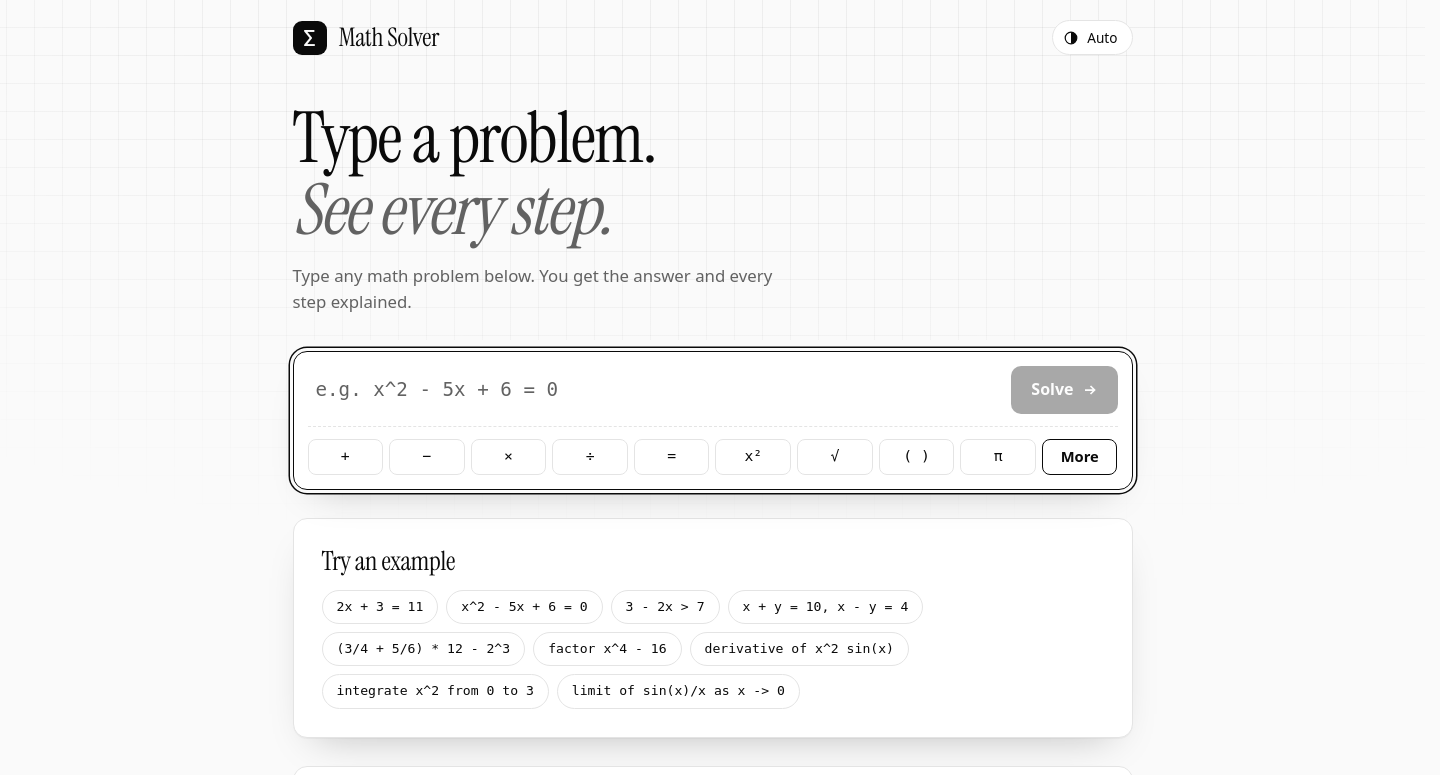
Scenario: App › shows a friendly error for invalid input
The width and height of the screenshot is (1440, 775).
Type "2x + (3" into the field named "Math problem" at (655, 390), box x1=308 y1=366 x2=1003 y2=414
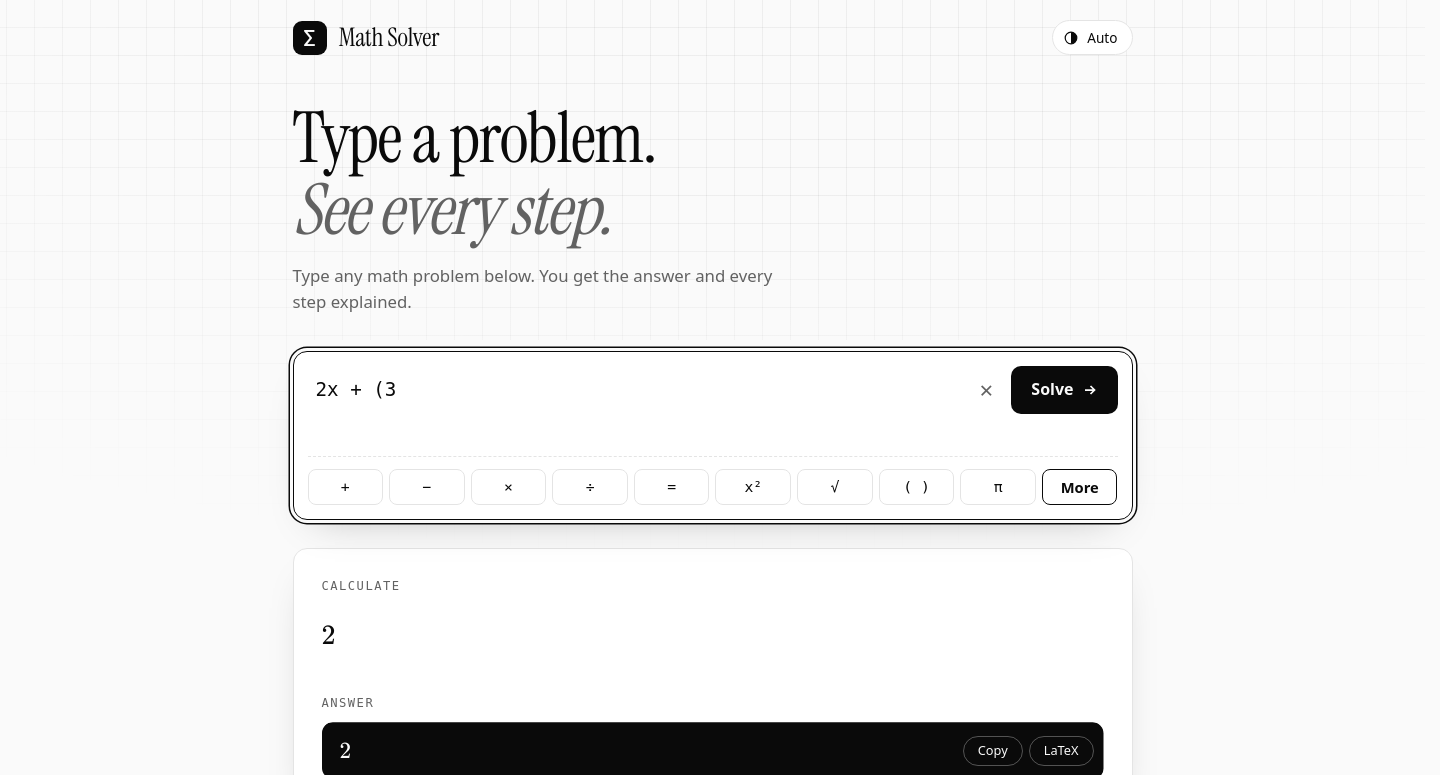
Submit the form named "Math problem", box x1=292 y1=351 x2=1132 y2=520
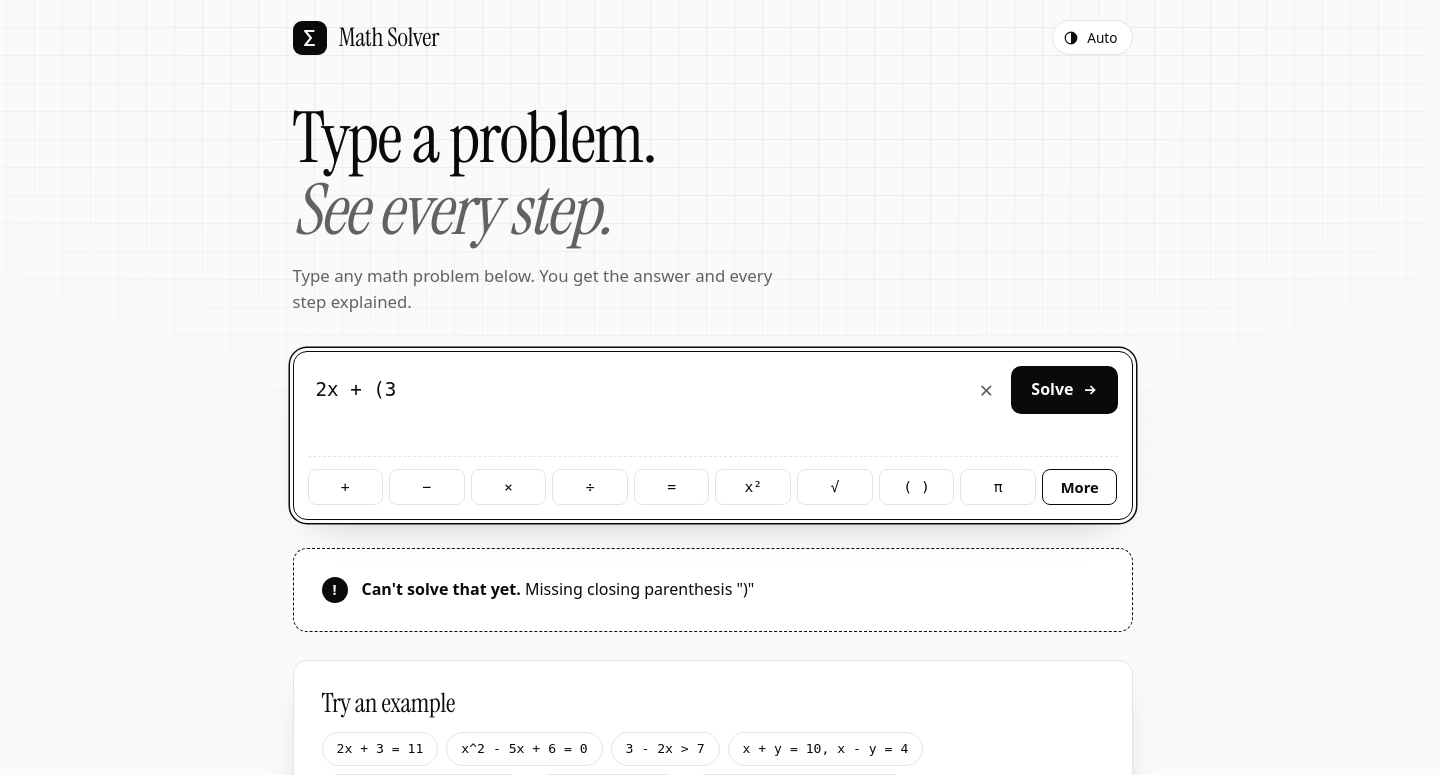
Expected: the message shows "parenthes", x1=525 y1=578 x2=754 y2=600
